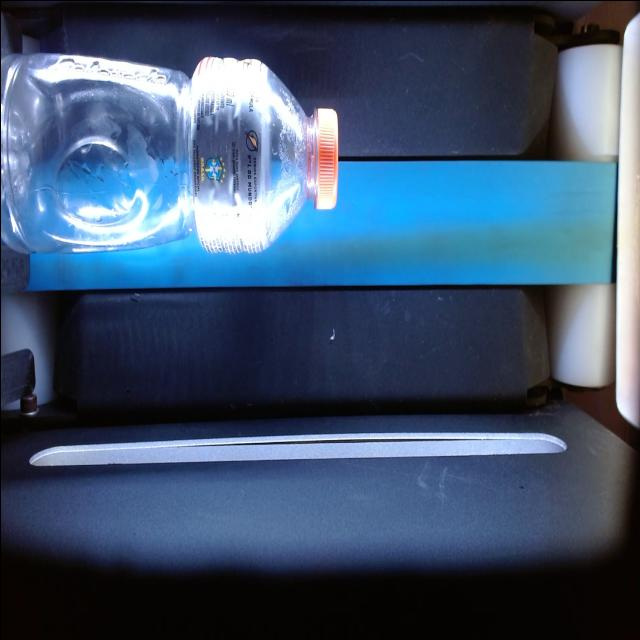bottom: (0, 42, 44, 263)
cap: (306, 98, 338, 231)
